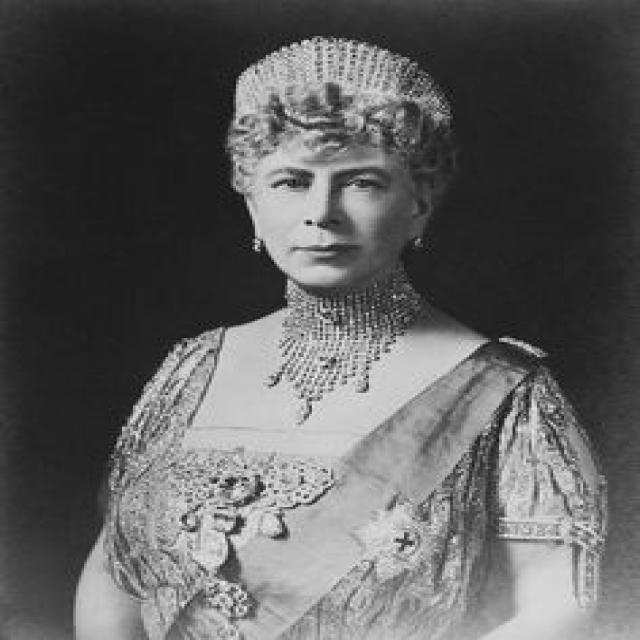Earring: (242, 232, 274, 266), (406, 233, 432, 253)
